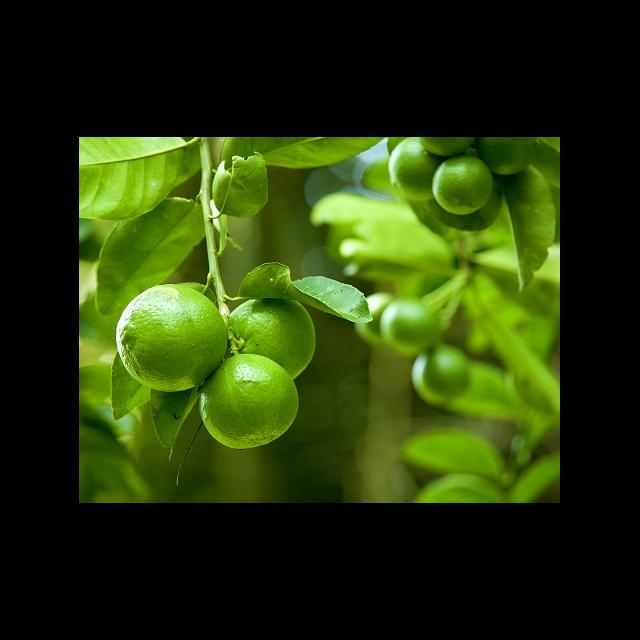lime: (118, 284, 228, 393), (204, 358, 300, 450), (228, 301, 316, 380), (430, 153, 496, 219), (388, 137, 446, 205)
